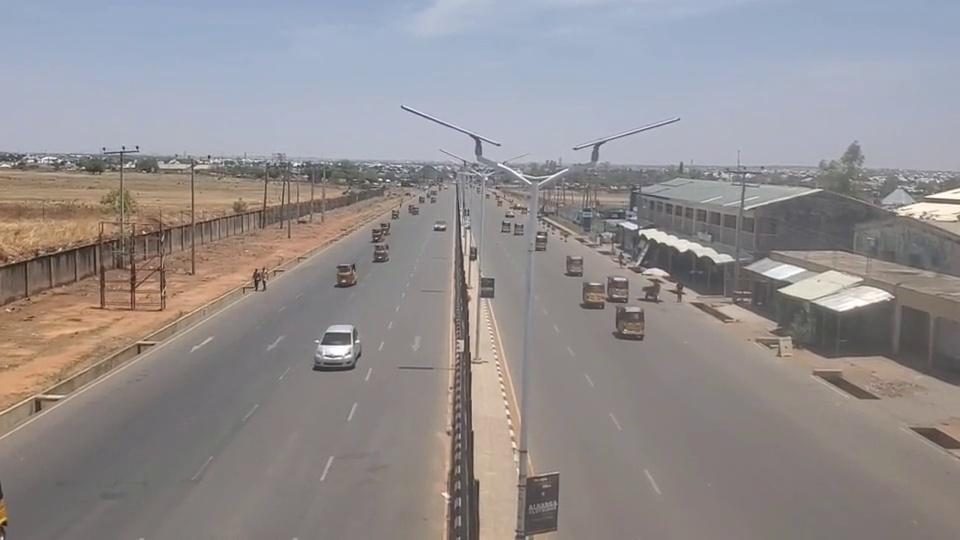keke: (614, 304, 644, 339), (581, 280, 605, 308), (606, 274, 629, 302), (335, 262, 357, 286), (565, 254, 583, 276)
